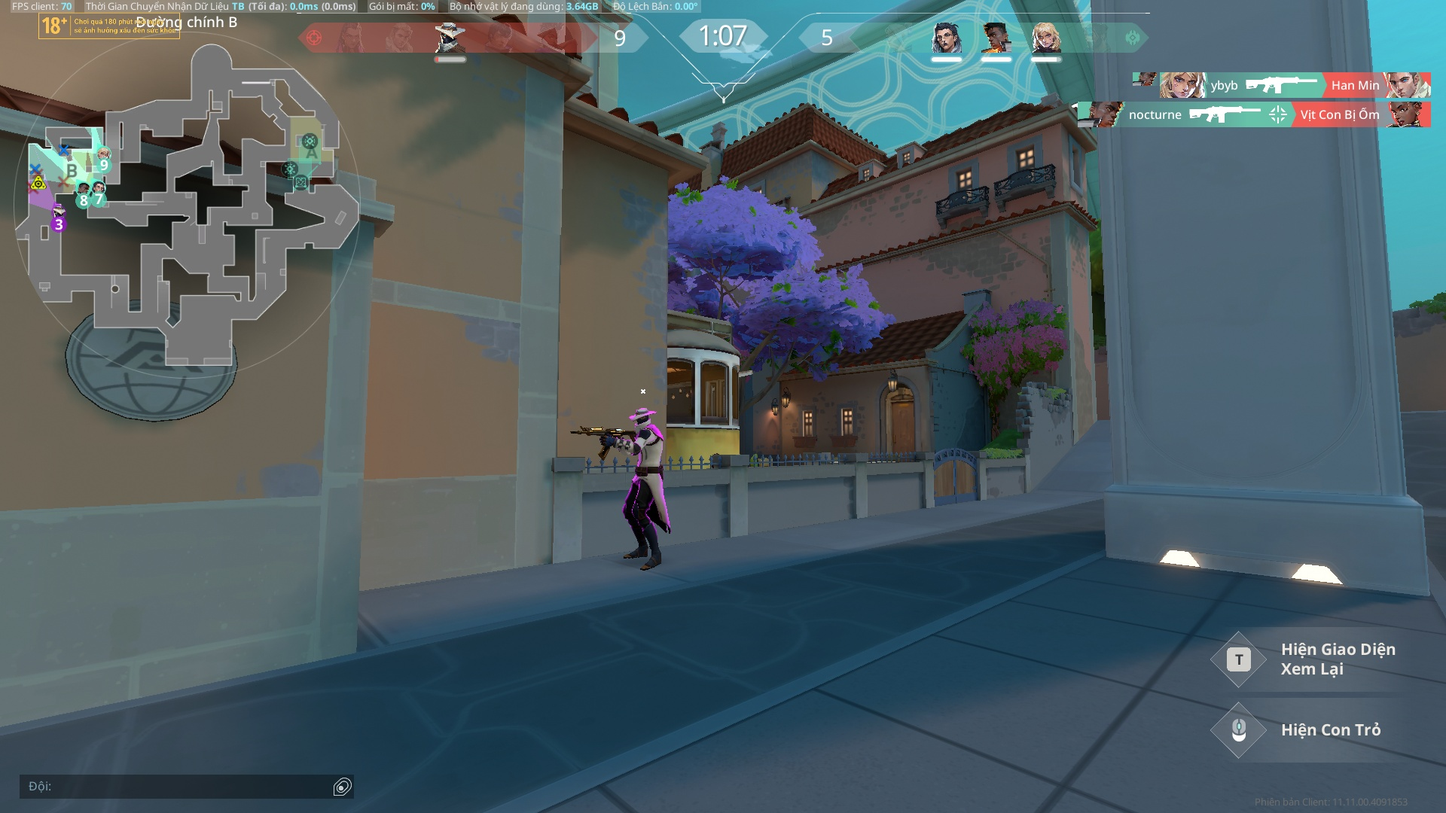body: (628, 422, 667, 470)
head: (633, 407, 651, 425)
